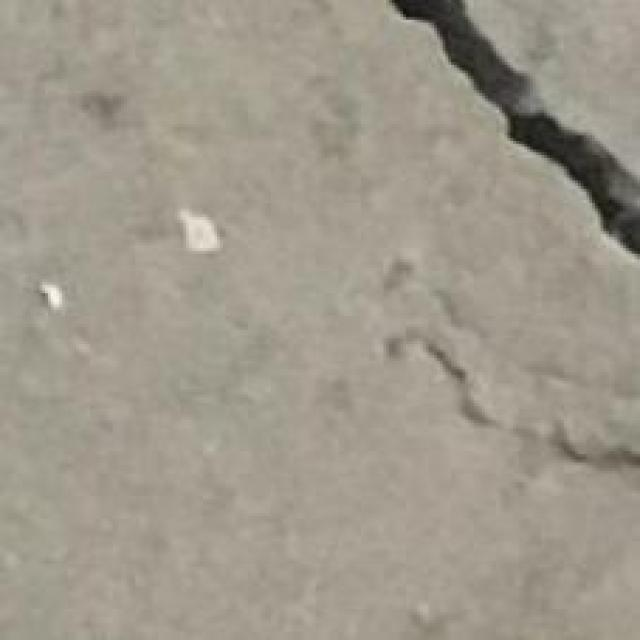diagonal crack: (392, 0, 639, 254)
